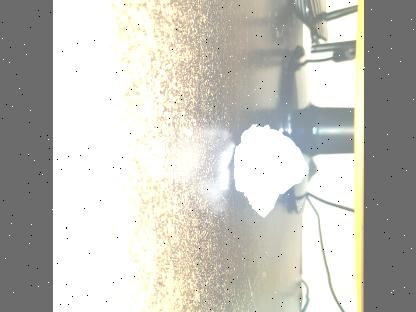Others: (228, 125, 308, 217)
